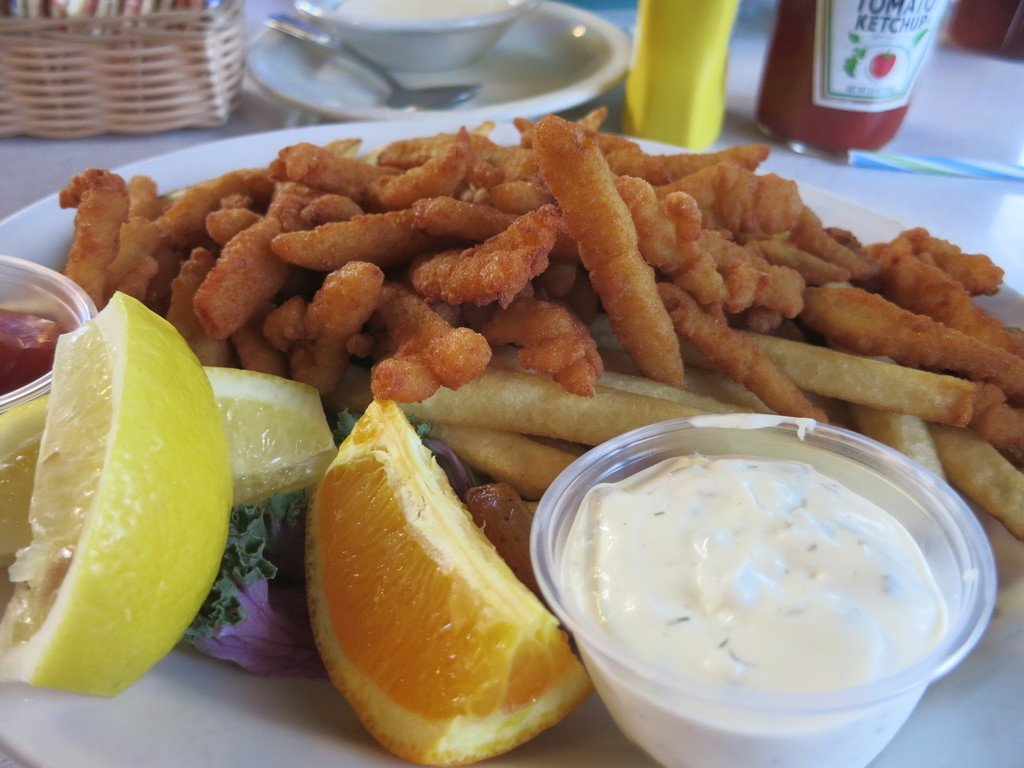French fries: (52, 88, 1023, 551)
